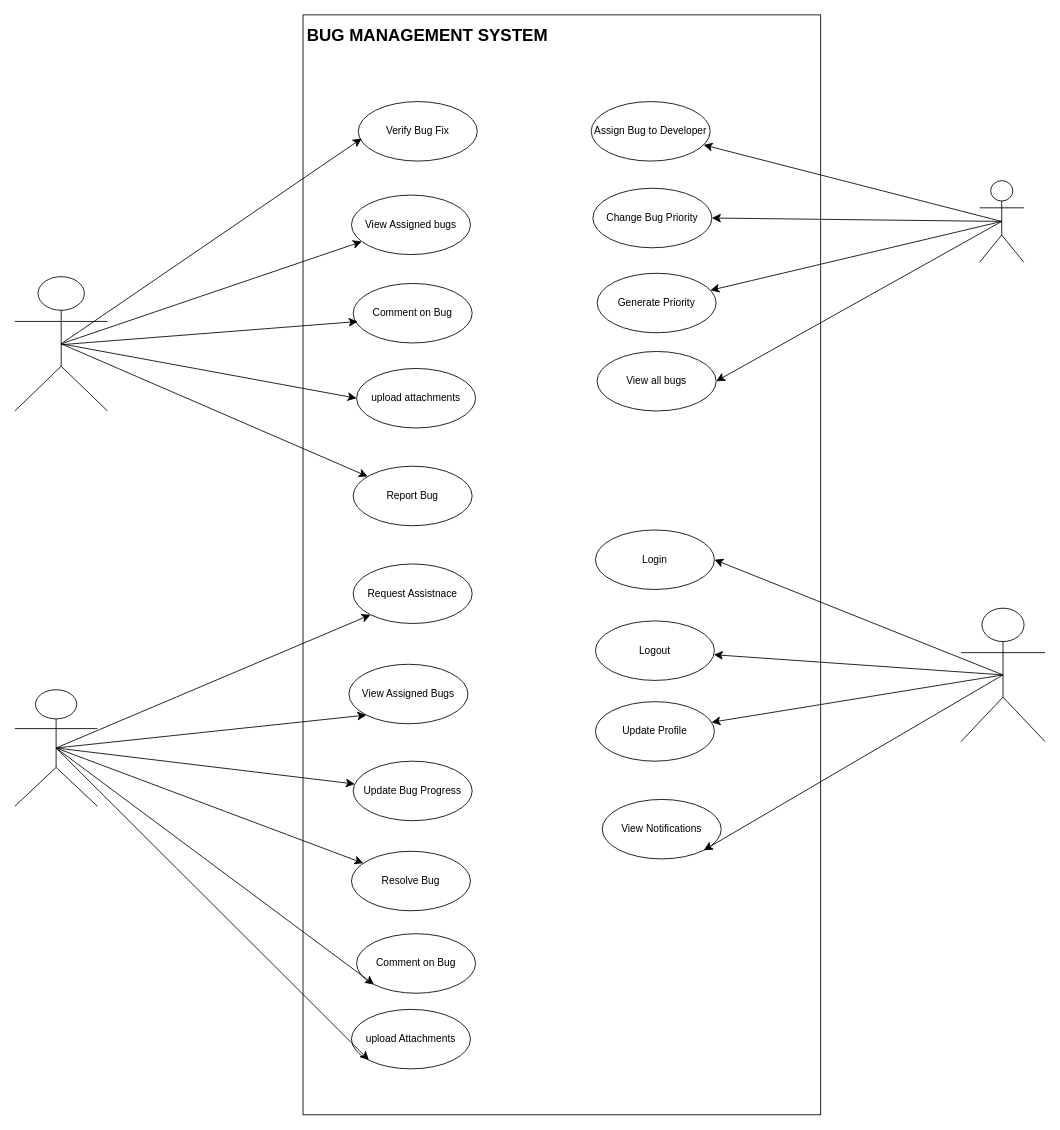
Some shapes in this 1060 by 1130 pixel diagram are drawn without their labels. The shapes that lost their labels are listed below. From the top down, each one's centre as x and y in pixels, then its label:
At (1001,221): "Manager".
At (61,343): "Tester".
At (1002,674): "User".
At (55,747): "Developer".
